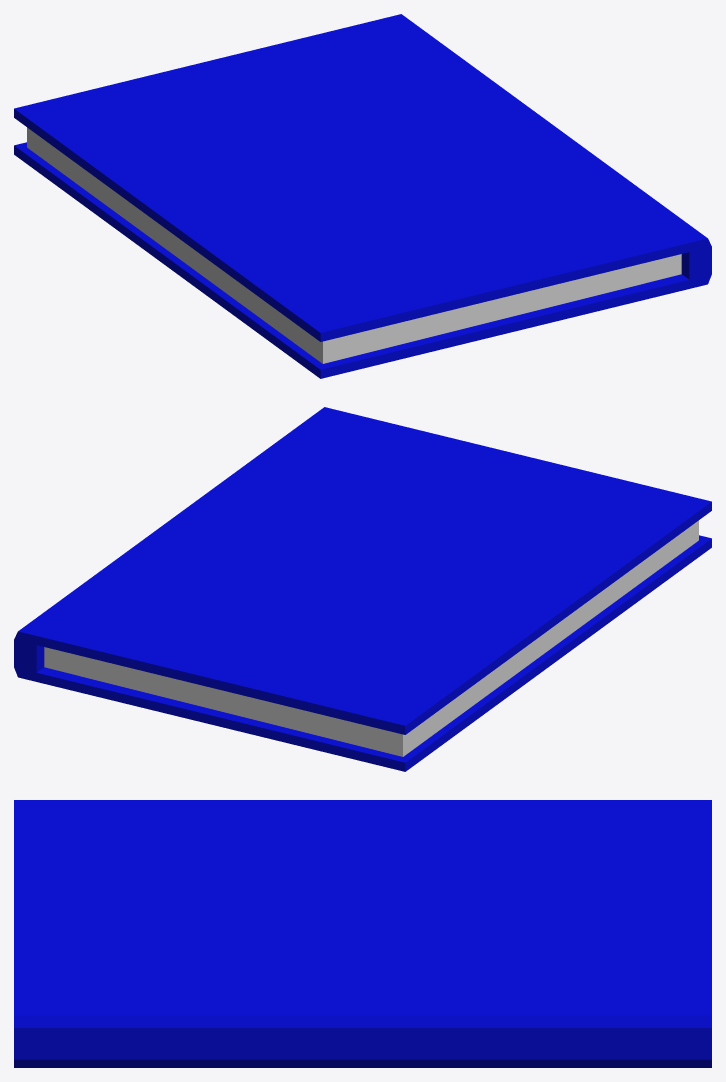
The model's file is livro com textura azul.fbx.
The picture shows the model from 3 angles, top to bottom: view 1: azimuth 30°, elevation 25°; view 2: azimuth 150°, elevation 25°; view 3: azimuth 270°, elevation 25°; orthographic projection. The views are drawn at different scales.
Visible parts, largest first — view 1: Livro.001; view 2: Livro.001; view 3: Livro.001.
Boxes of the visible parts, x1,y1,x2,y2 form: Livro.001: [14, 14, 711, 378]; Livro.001: [14, 407, 711, 771]; Livro.001: [14, 800, 711, 1067].
Bounding box in the file's own units: 15.52 × 1.74 × 21.05.
